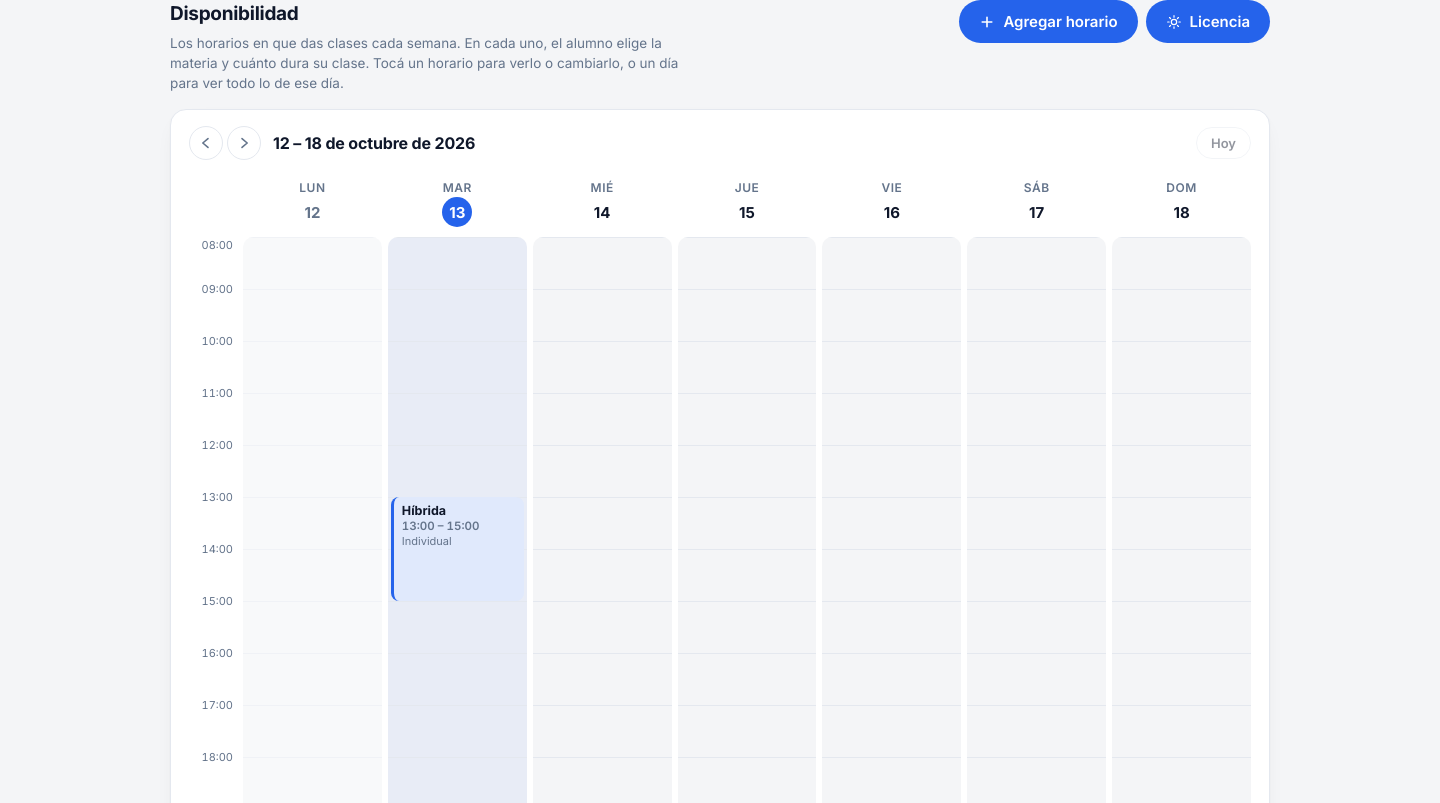
Test case: AvailabilityPage — vista de docente › una ventana de una modalidad sin tarifas avisa que no se ofrece
Click the button with aria-label "13:00 a 15:00" at [457, 549], box [391,497,524,601]
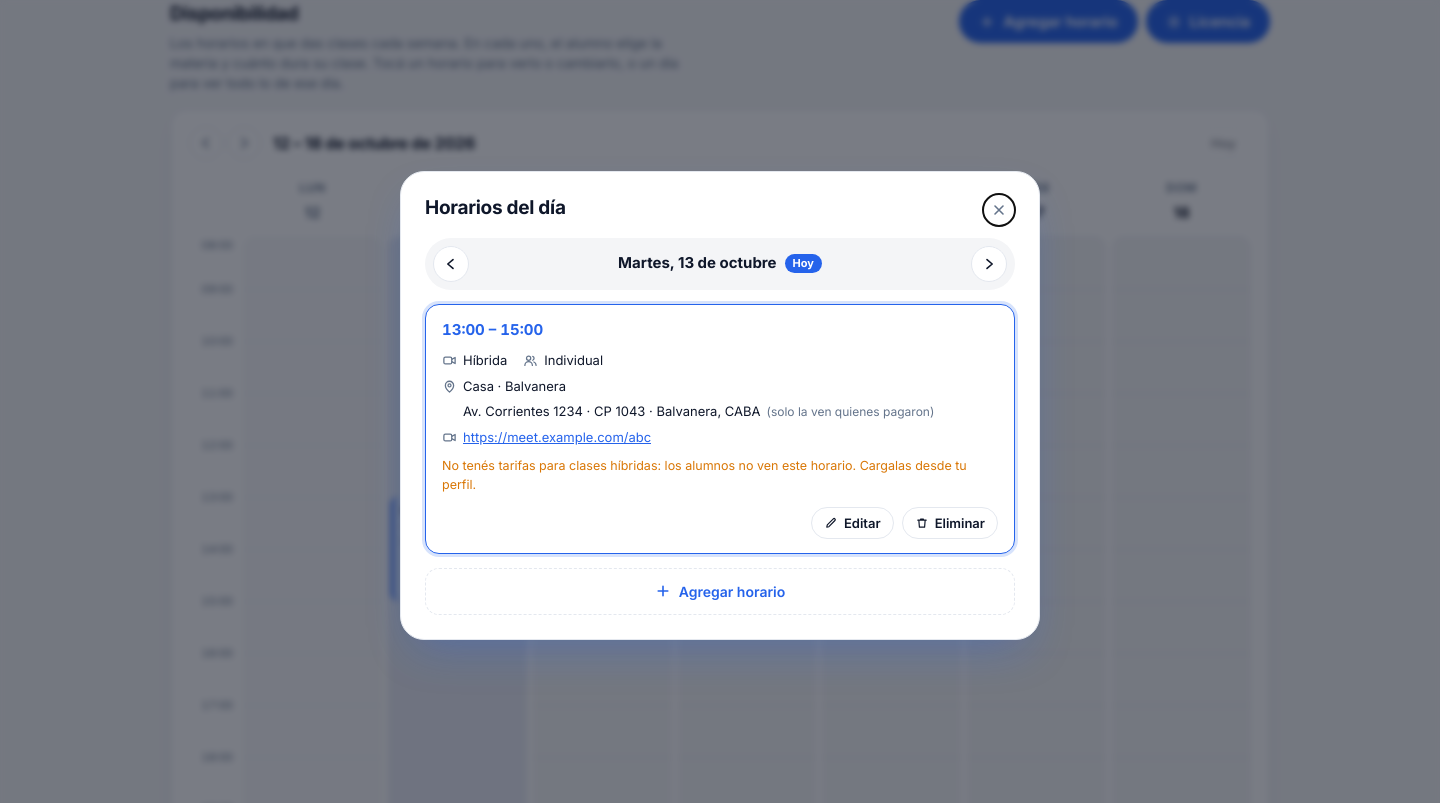
Now the text "No tenés tarifas para clases híbridas: los alumnos no ven este horario" is shown, box [442,457,998,494]
